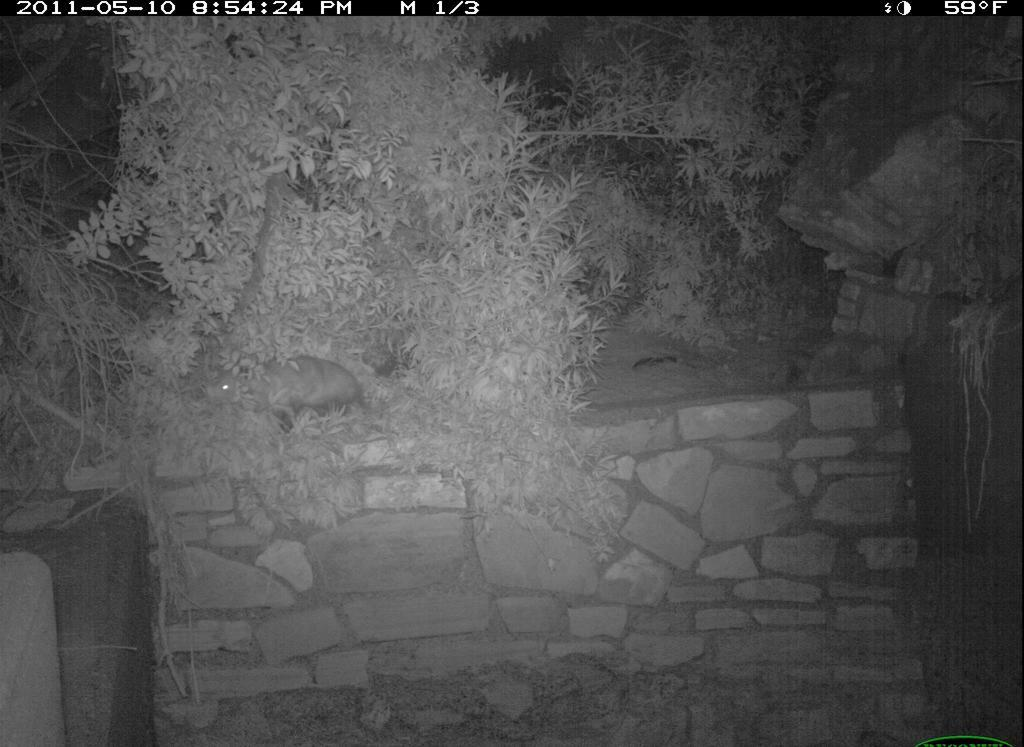opossum: (195, 341, 377, 450)
